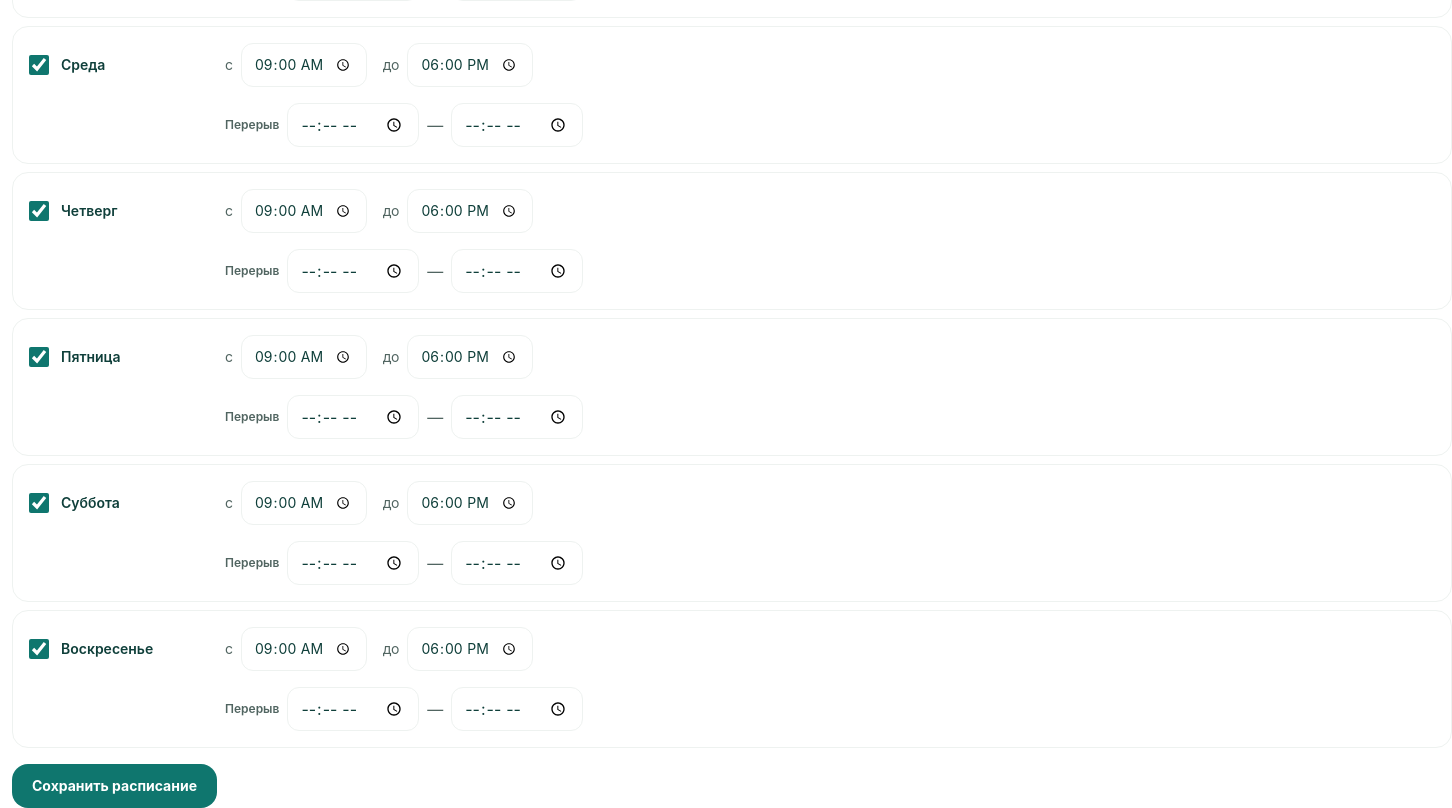
Test case: WeekSchedule › говорит, что сохранилось: молчание после нажатия выглядит поломкой
This screenshot has width=1452, height=808.
(page scrolled)
Click the button "Сохранить расписание" at (114, 786), box [12,764,217,807]
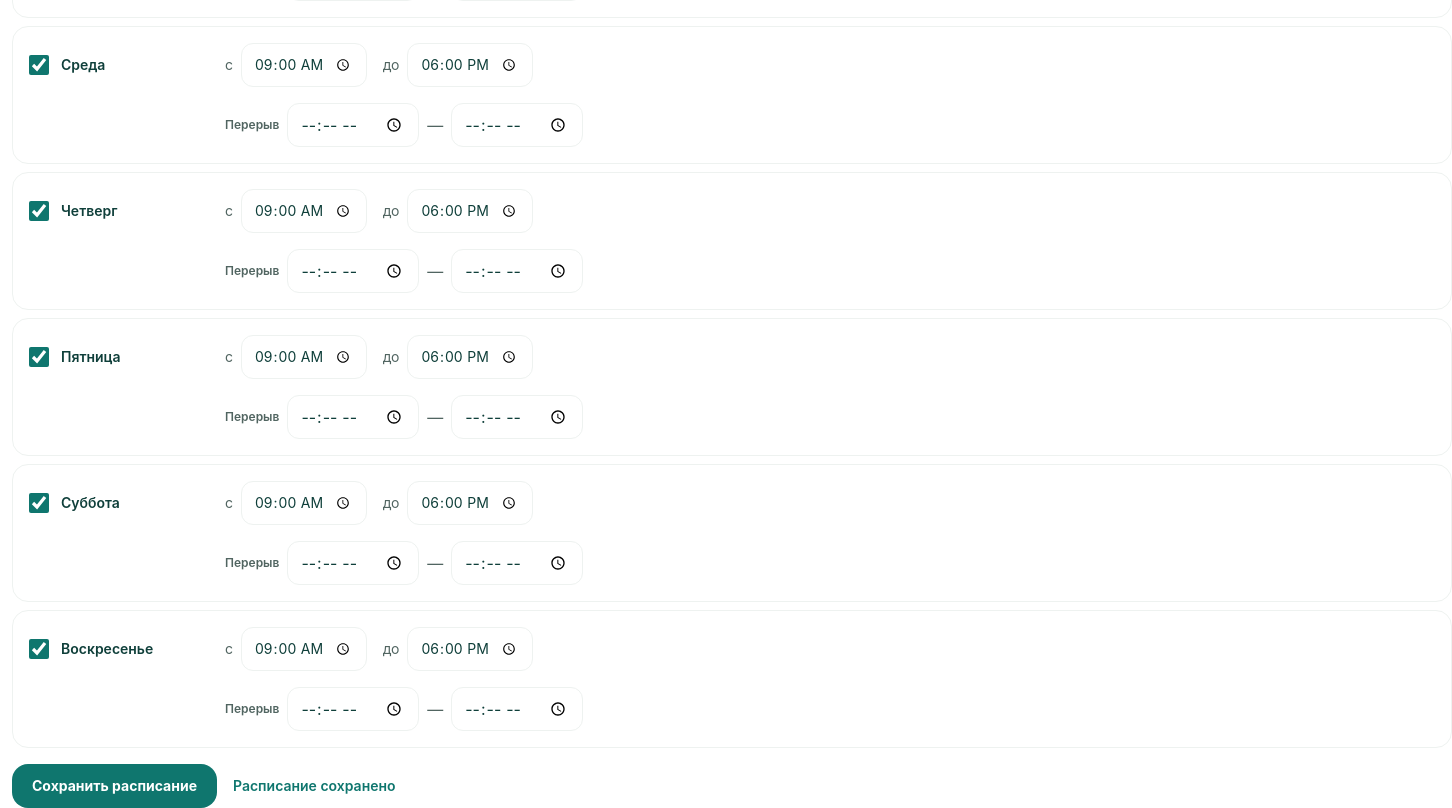
Now the message shows "сохранен", box [233,777,396,794]
